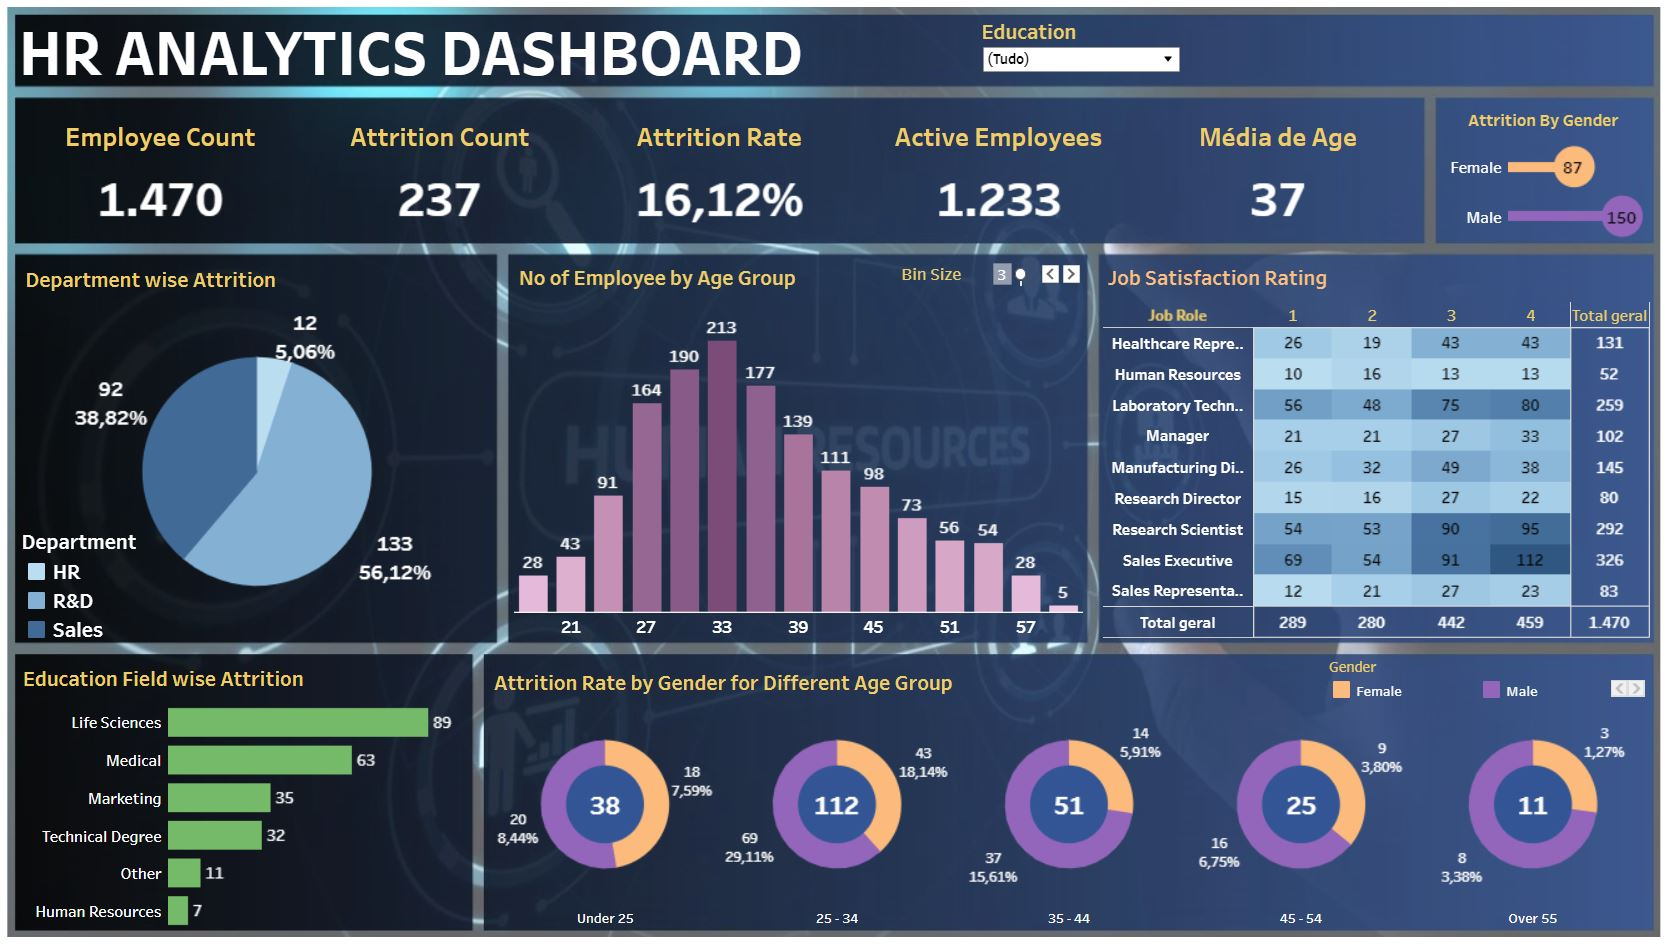

This screenshot's page, from the dashboard's own definition file:
{"tool":"tableau","page":{"name":"HR ANALYSIS","canvas":[1366,768],"ordinal":0},"visuals":[{"type":"image","param":"C:/PROJECTS/Tableau/HR-Analysis/HR background/Slide1.JPG","box":[2,2,1362,768]},{"type":"image","param":"C:/PROJECTS/BI/Tableau/HR-Analysis/HR background/Slide1.JPG","box":[8,8,675,752]},{"type":"image","box":[683,8,675,752]},{"type":"text","box":[11,9,664,48]},{"type":"filter","title":"Department wise Attrition","param":"[federated.0fs2pux0hx53ah1bp5o2w1x6po3n].[none:Education:nk]","box":[1113,10,160,173]},{"type":"worksheet","title":"Attrition By Gender","mark":"Bar","rows":["Gender"],"cols":["Calculation_883268501900218368","Calculation_883268501900218368"],"box":[1180,79,174,116]},{"type":"worksheet","title":"KPI","mark":"Automatic","box":[32,89,1118,109]},{"type":"worksheet","title":"Job Satisfaction Rating","mark":"Square","rows":["Job Role"],"cols":["Job Satisfaction"],"box":[903,206,452,316]},{"type":"worksheet","title":"No of Employee by Age Group","mark":"Automatic","rows":["Employee Count"],"cols":["Age (compartimento)"],"box":[427,210,455,309]},{"type":"worksheet","title":"Department wise Attrition","mark":"Pie","box":[12,211,390,310]},{"type":"parameter","param":"[Parameters].[Parâmetro 1]","box":[737,216,146,26]},{"type":"legend","title":"Department wise Attrition","param":"[federated.0fs2pux0hx53ah1bp5o2w1x6po3n].[none:Department:nk]","box":[33,428,140,89]},{"type":"legend","title":"Attrition Rate by Gender for Different Age Group","param":"[federated.0fs2pux0hx53ah1bp5o2w1x6po3n].[none:Gender:nk]","box":[1079,532,255,37]},{"type":"worksheet","title":"Attrition Rate by Gender for Different Age Group","mark":"Pie","rows":["Calculation_778841285950365697","Calculation_778841285950365697"],"cols":["CF_age band"],"box":[397,534,938,226]},{"type":"worksheet","title":"Education Field wise Attrition","mark":"Bar","rows":["Education Field"],"cols":["Calculation_883268501900218368"],"box":[12,535,370,223]}]}

Visuals, with their boxes in screenshot pixels (x1, y1, x2, y2), scaled from the page's 1366x768 canvas onto the 1668x944 screenshot:
image: (left=2, top=2, right=1666, bottom=943)
image: (left=10, top=10, right=834, bottom=934)
image: (left=834, top=10, right=1658, bottom=934)
text: (left=13, top=11, right=824, bottom=70)
"Department wise Attrition" filter: (left=1359, top=12, right=1554, bottom=225)
"Attrition By Gender" worksheet (Bar marks): (left=1441, top=97, right=1653, bottom=240)
"KPI" worksheet: (left=39, top=109, right=1404, bottom=243)
"Job Satisfaction Rating" worksheet (Square marks): (left=1103, top=253, right=1655, bottom=642)
"No of Employee by Age Group" worksheet: (left=521, top=258, right=1077, bottom=638)
"Department wise Attrition" worksheet (Pie marks): (left=15, top=259, right=491, bottom=640)
parameter: (left=900, top=266, right=1078, bottom=297)
"Department wise Attrition" legend: (left=40, top=526, right=211, bottom=635)
"Attrition Rate by Gender for Different Age Group" legend: (left=1318, top=654, right=1629, bottom=699)
"Attrition Rate by Gender for Different Age Group" worksheet (Pie marks): (left=485, top=656, right=1630, bottom=934)
"Education Field wise Attrition" worksheet (Bar marks): (left=15, top=658, right=466, bottom=932)
